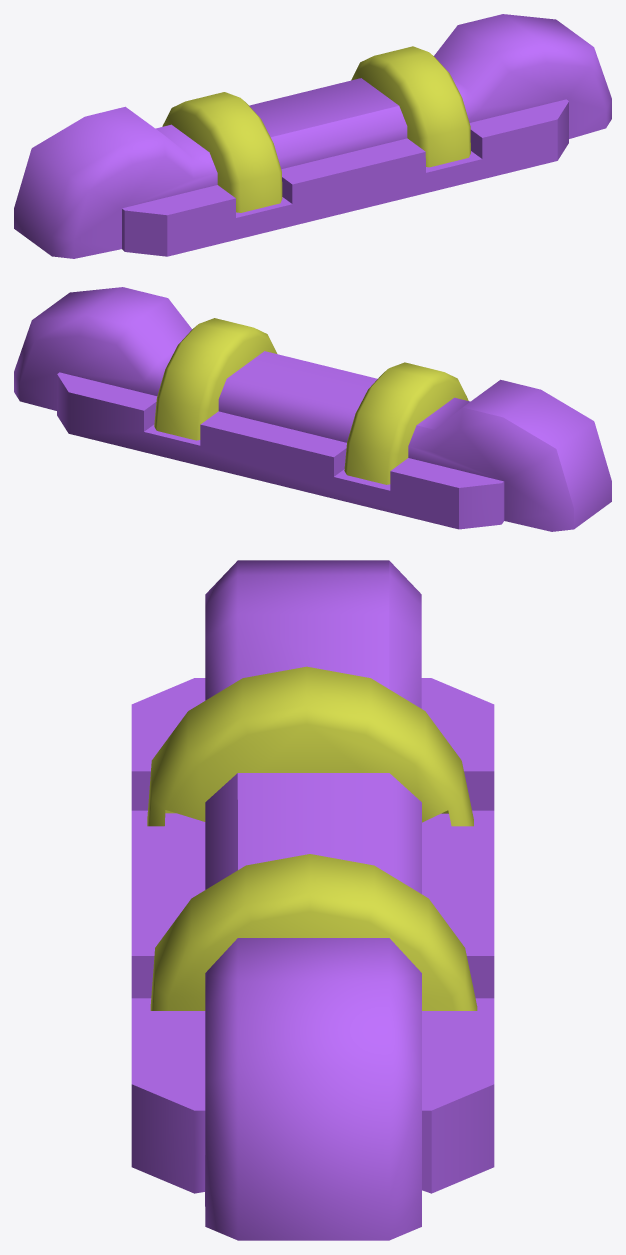
The model's file is prop_Lamp_small.FBX.
3 views of the same model, one above another, from view 1: azimuth 30°, elevation 25°; view 2: azimuth 150°, elevation 25°; view 3: azimuth 270°, elevation 25° (orthographic). The views are drawn at different scales.
Visible parts, largest first — view 1: prop_Lamp_small; view 2: prop_Lamp_small; view 3: prop_Lamp_small.
Part boxes in pixels (bbox=[...]): prop_Lamp_small: bbox=[14, 14, 611, 258]; prop_Lamp_small: bbox=[14, 287, 611, 531]; prop_Lamp_small: bbox=[131, 560, 494, 1240].
Size of the model in its own units: 16.23 by 2.72 by 4.55.
